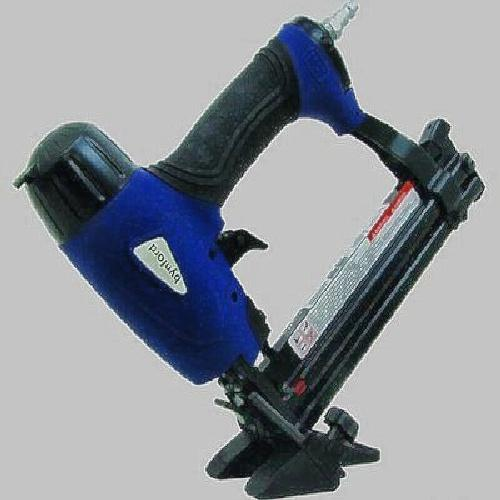stapler: (33, 28, 468, 478)
